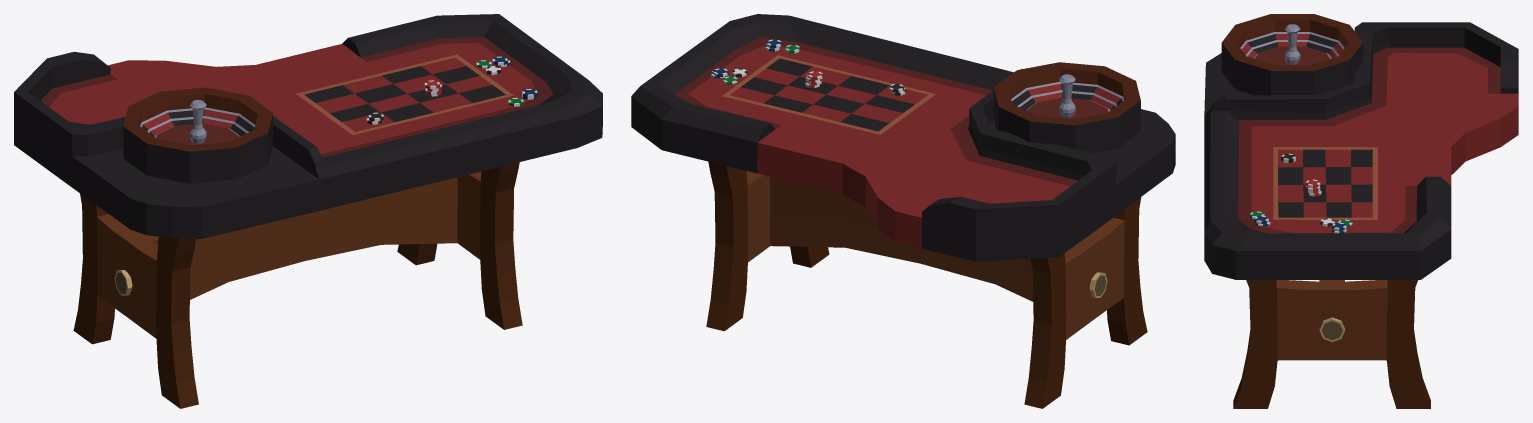
File: Roulette_Table_01.fbx
3 renders of one model, left to right at view 1: azimuth 30°, elevation 25°; view 2: azimuth 150°, elevation 25°; view 3: azimuth 270°, elevation 25°, orthographic. The views are drawn at different scales.
Parts seen in each view (by area): view 1: Roulette_Table, Table_legs, Roulette_Wheel_mesh, TableClutter; view 2: Roulette_Table, Table_legs, Roulette_Wheel_mesh, TableClutter; view 3: Roulette_Table, Table_legs, Roulette_Wheel_mesh, TableClutter.
Part boxes in pixels (bbox=[...]): Roulette_Table: bbox=[14, 14, 602, 238]; Table_legs: bbox=[73, 162, 522, 408]; Roulette_Wheel_mesh: bbox=[123, 87, 272, 183]; TableClutter: bbox=[366, 56, 537, 124]; Roulette_Table: bbox=[631, 14, 1175, 261]; Table_legs: bbox=[706, 161, 1147, 408]; Roulette_Wheel_mesh: bbox=[993, 62, 1140, 153]; TableClutter: bbox=[710, 39, 905, 95]; Roulette_Table: bbox=[1204, 22, 1518, 279]; Table_legs: bbox=[1233, 280, 1430, 408]; Roulette_Wheel_mesh: bbox=[1221, 14, 1363, 95]; TableClutter: bbox=[1249, 153, 1352, 233].
Bounding box in the file's own units: 2 × 1.12 × 1.27.
